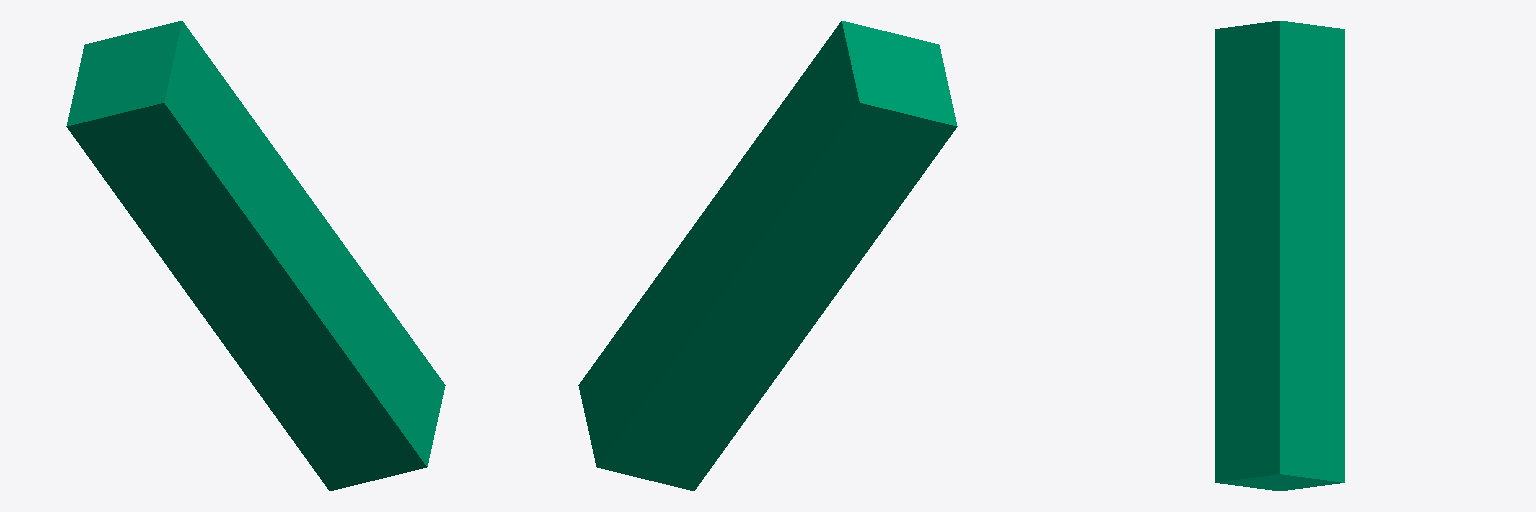
URDF robot description (ground_skeleton):
<?xml version="1.0"?>
<robot name="ground_skeleton">
    <link name="world" />
    <link name="world_frame">
        <inertial>
            <mass value="0.000000001" />
            <origin xyz="0 0 0" rpy="0 0 0" />
            <inertia ixx="0.000000001" ixy="0.000000001" ixz="0.000000001" iyy="1.0" iyz="0" izz="1.0" />
        </inertial>
    </link>
    <link name="ground_link">
         <collision>
            <origin xyz= "0 -0.46 -0.47" rpy="0. 0 0" />
            <geometry>
                <box size="5.0 1 1" />
            </geometry>
        </collision>
         <visual name="visual">
            <origin xyz = "0 -0.46 -0.47" rpy="0. 0 0" />
            <geometry>
                <box size="5.0 1 1" />
            </geometry>
        </visual>
        <inertial>
            <mass value="1.0" />
            <origin xyz="0 0 0" rpy="0 0 0" />
            <inertia ixx="1.0" ixy="0" ixz="0" iyy="1.0" iyz="0" izz="1.0" />
        </inertial>
    </link>
    <link name="wall_link">
         <collision>
            <origin xyz="0 0 0.00" rpy="0 0.5 0" />
            <geometry>
                <box size="50.0 50.0 2.3" />
            </geometry>
        </collision>
         <visual>
            <origin xyz = "0. -0. -0." rpy="0. 0 0" />
            <geometry>
                <mesh filename = "mesh/tile_marble_diamond.dae" scale="1. 1. 0.1" />
            </geometry>
        </visual>
        <inertial>
            <mass value="1.0" />
            <origin xyz="0 0 0" rpy="0 0 0" />
            <inertia ixx="1.0" ixy="0" ixz="0" iyy="1.0" iyz="0" izz="1.0" />
        </inertial>
    </link>
    <joint name="ground_joint" type="fixed">
        <origin xyz="0 0 -0.0" rpy="0.7854 1 0" />
        <parent link="world" />
        <child link="ground_link" />
    </joint>
    <joint name="frame_joint" type="fixed">
        <origin xyz="0 0 0" rpy="0 0 0" />
        <parent link="world" />
        <child link="world_frame" />
    </joint>
    <joint name="wall_joint" type="fixed">
        <origin xyz="1 -10 -5" rpy="0 -1.5708 0" />
        <parent link="world" />
        <child link="wall_link" />
    </joint>
</robot>

--- Render facts (derived) ---
3 views of the same robot in one strip: view 1: azimuth 30°, elevation 25°; view 2: azimuth 150°, elevation 25°; view 3: azimuth 270°, elevation 25° (orthographic).
Model ground_skeleton with 4 links and 3 joints (3 fixed), rooted at world, posed every joint at zero.
Links seen in each view (by area): view 1: ground_link; view 2: ground_link; view 3: ground_link.
Link boxes in pixels (<box>): ground_link: <box>66,21,445,490</box>; ground_link: <box>578,21,957,490</box>; ground_link: <box>1215,21,1344,490</box>.
Size in the robot's own frame: 3.89 by 1.41 by 4.97 metres.
Meshes: 1 distinct files referenced, 0 mesh visuals loaded (none loaded); not drawn: 1 (reference not matched to a file when rendering).